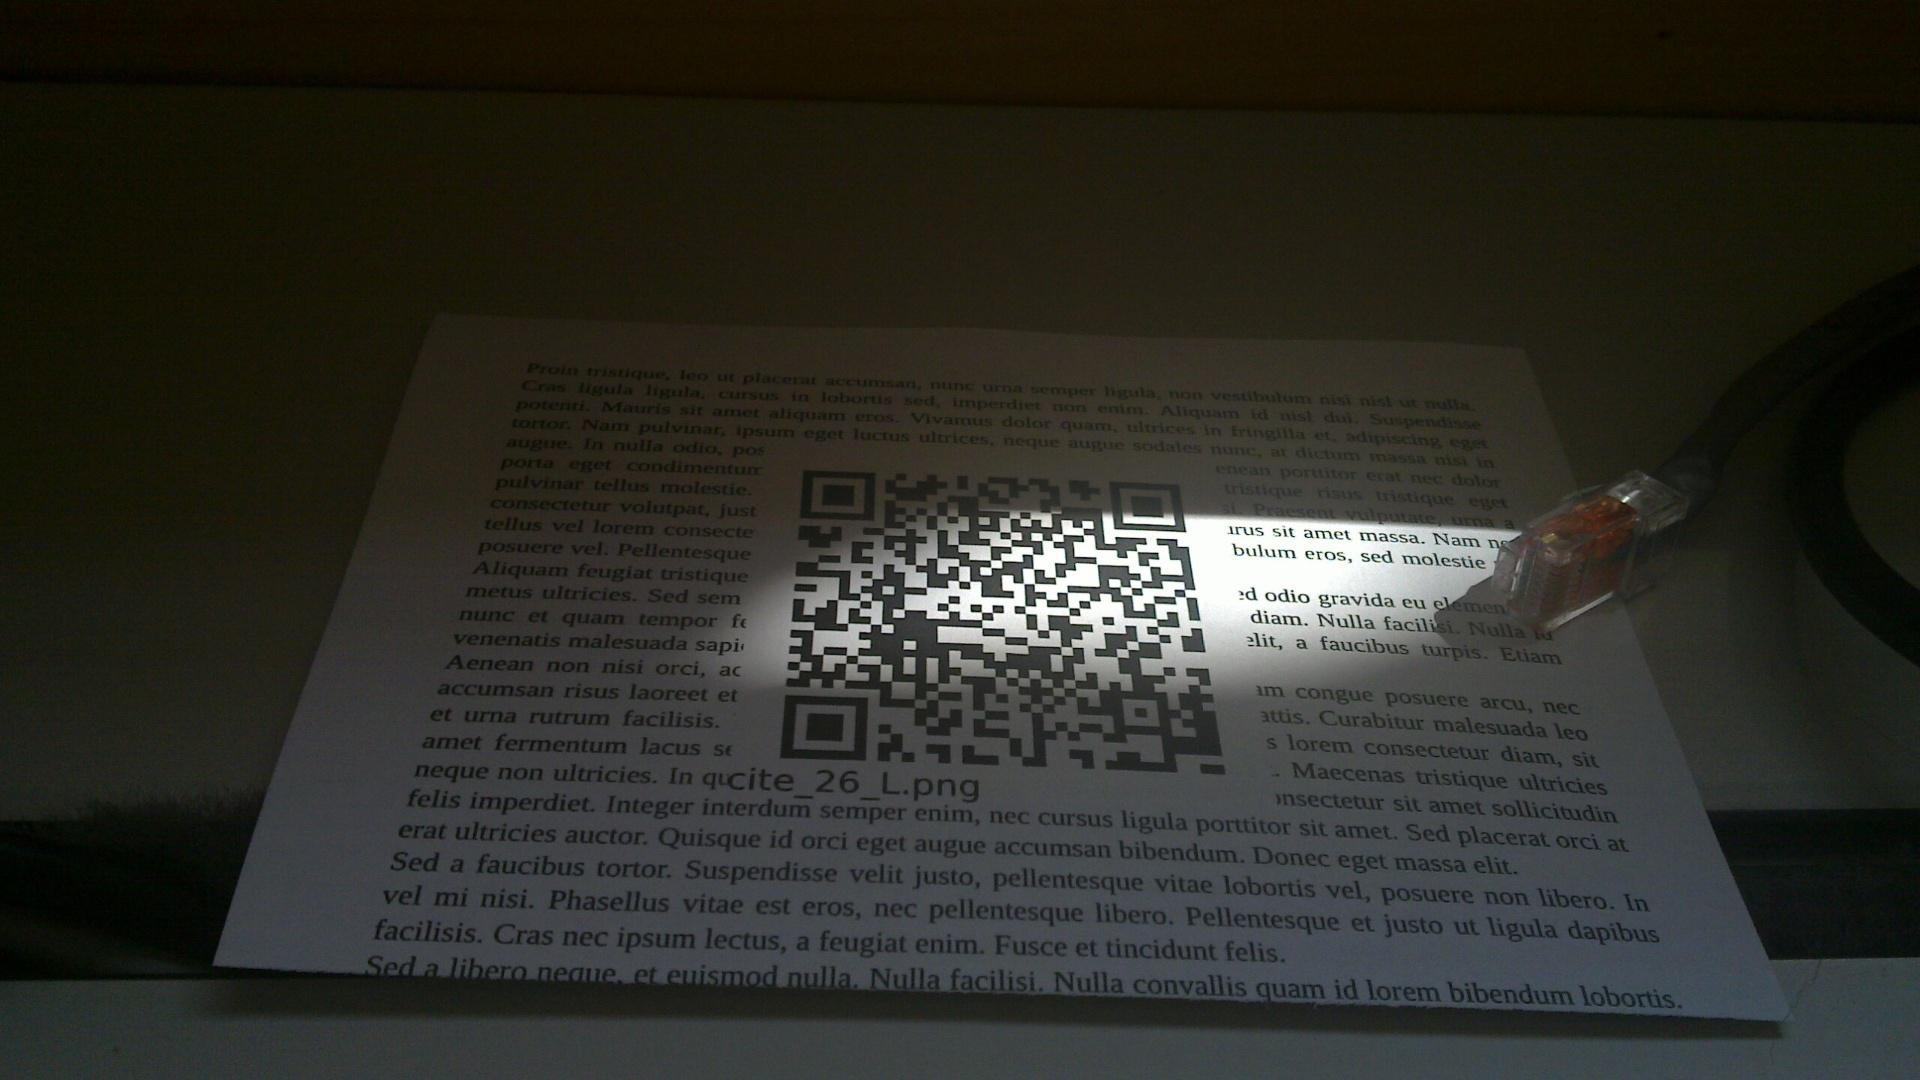Finder pattern: (778, 684, 872, 769), (1101, 473, 1191, 539), (796, 463, 884, 524)
